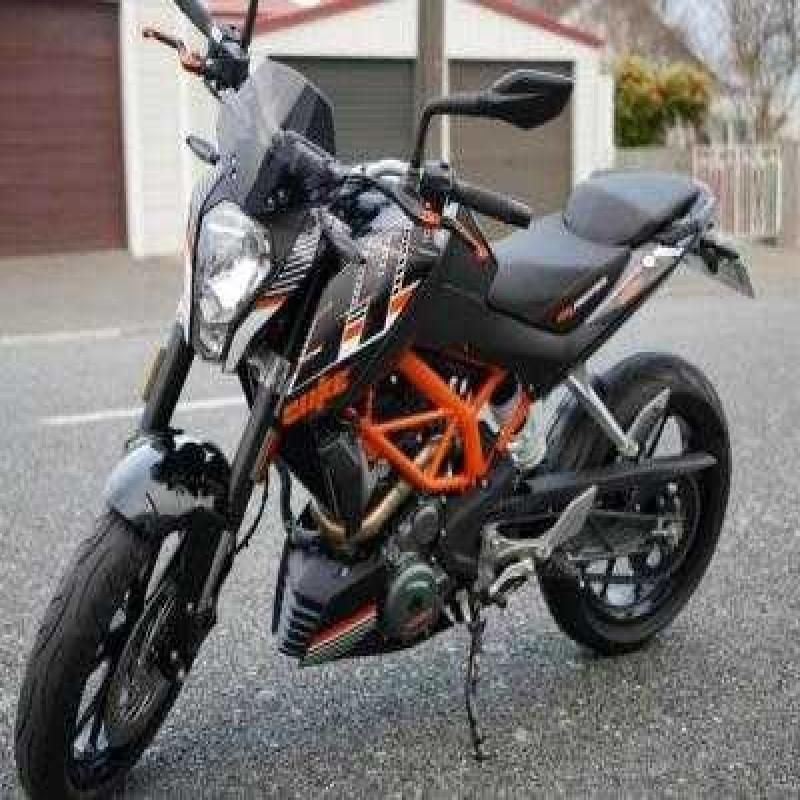bike: (23, 4, 765, 781)
